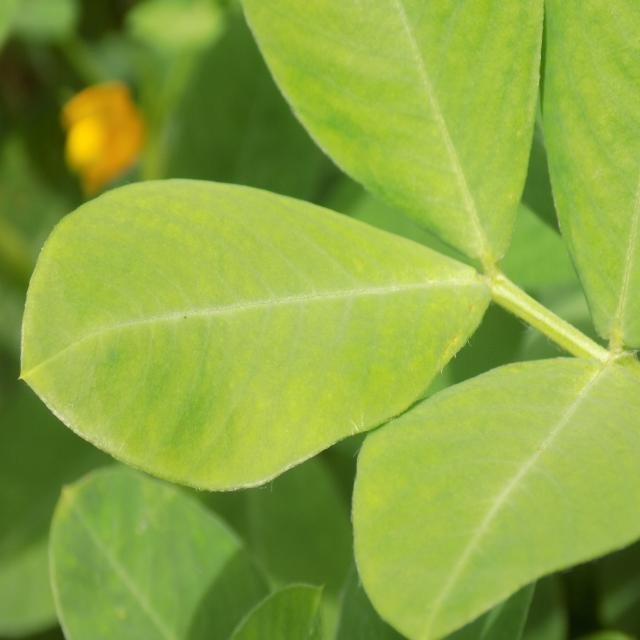Ground nut_healthy: (22, 177, 497, 490)
